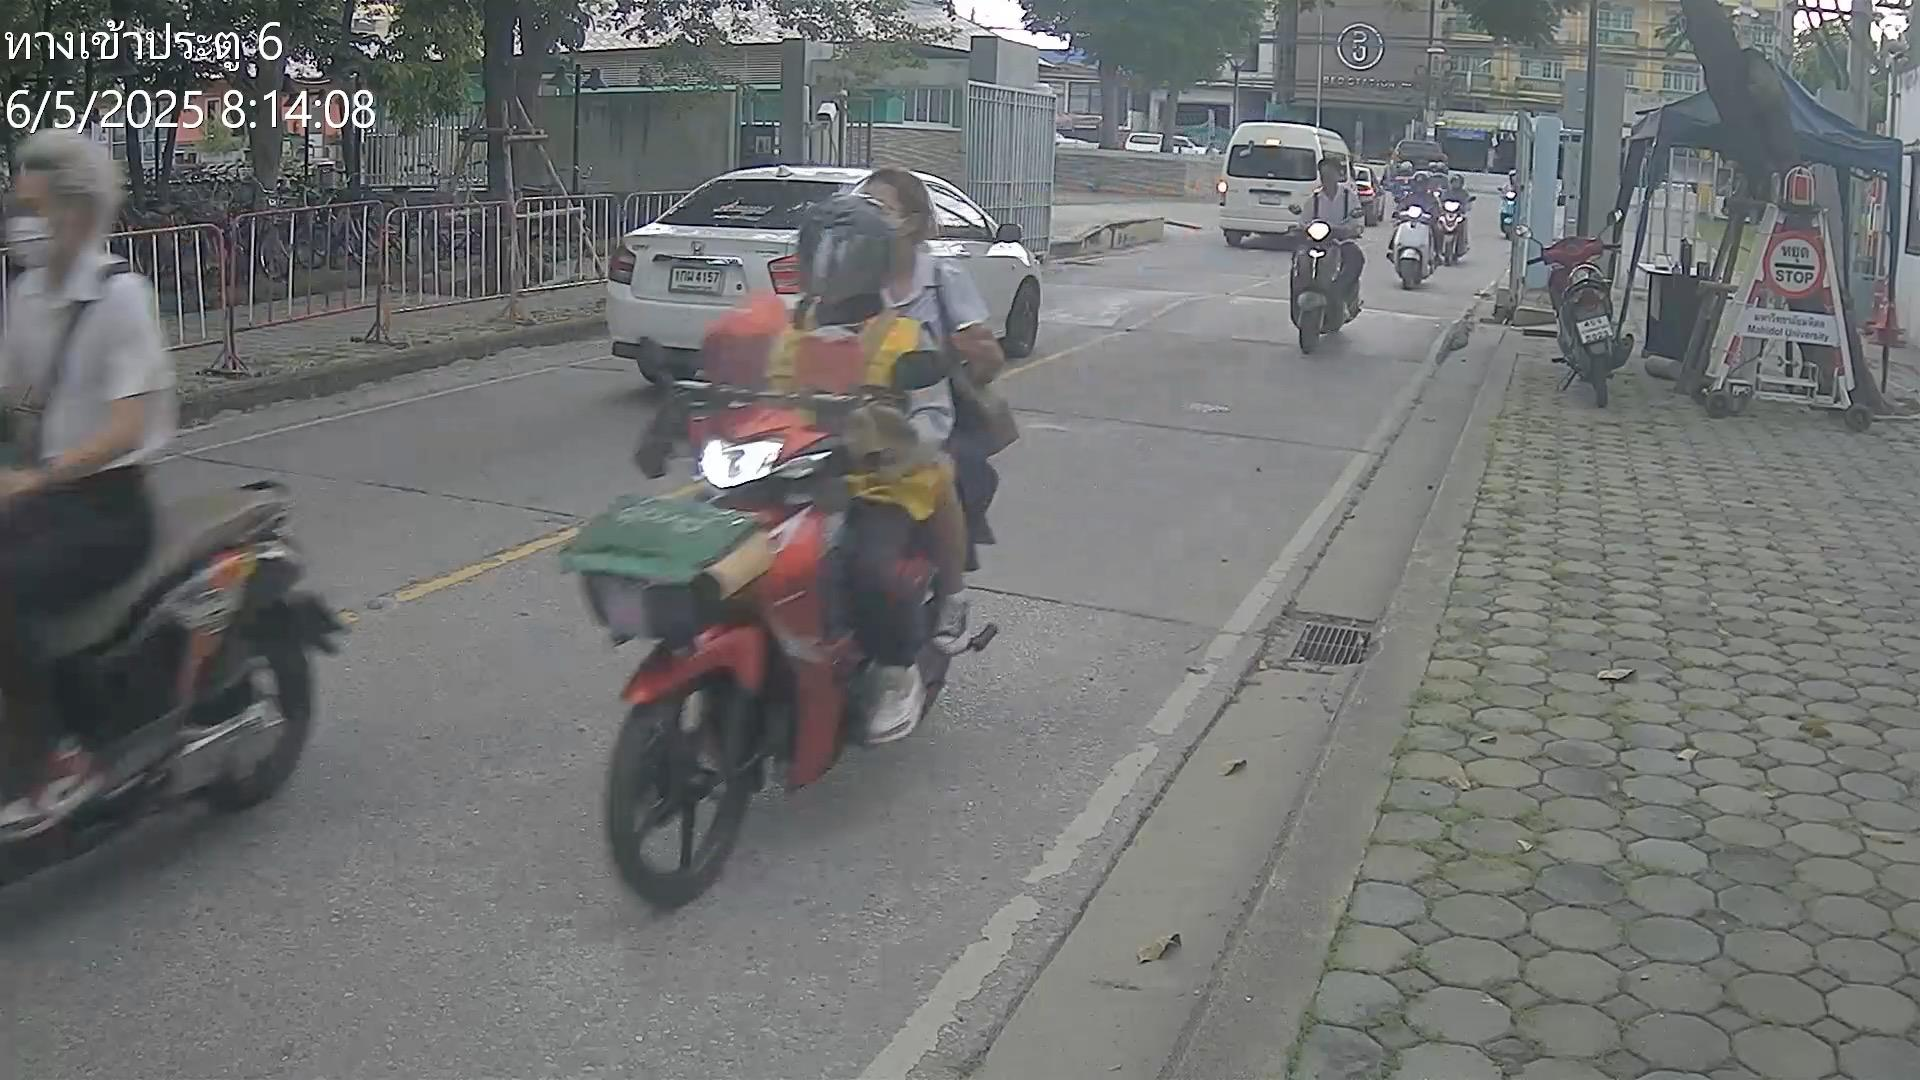With-Helmet: (786, 189, 906, 309)
